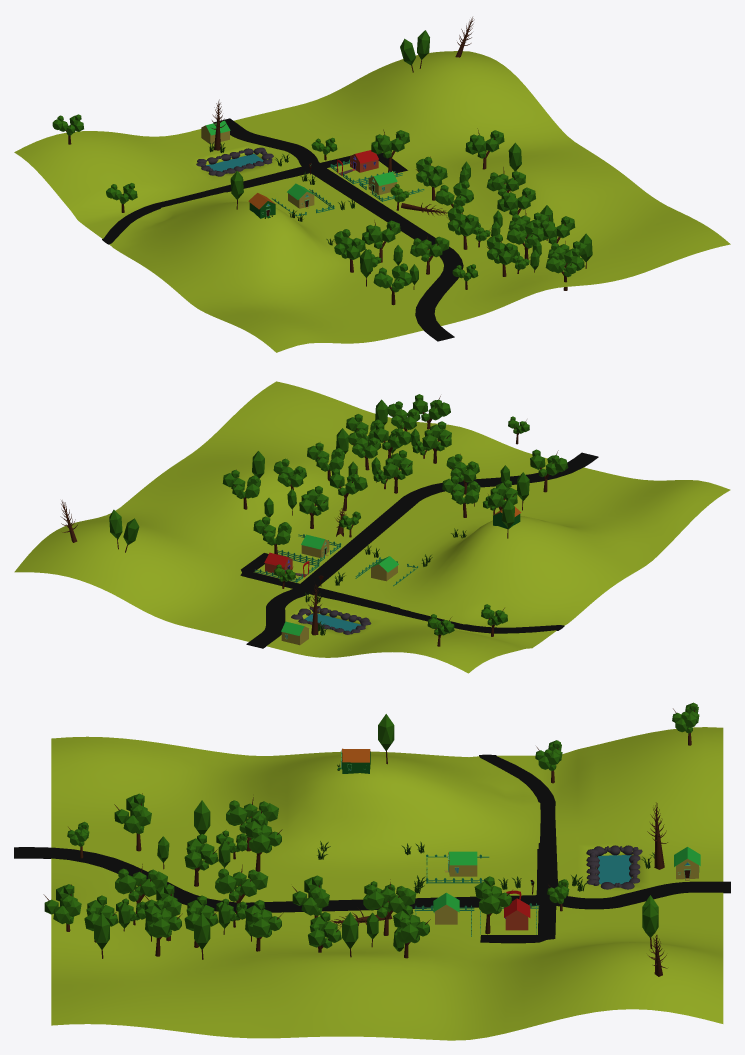
File: Cotoon land.FBX
3 renders of one model, top to bottom at view 1: azimuth 30°, elevation 25°; view 2: azimuth 150°, elevation 25°; view 3: azimuth 270°, elevation 25°, orthographic. The views are drawn at different scales.
Visible parts, largest first — view 1: Landscape_Plane_Landscape, Road_Cube_001_Road, Rock_Cube_006_Rock, Tree_Leaf_018_Icosphere_029_Leaf, Tree_Leaf_008_Icosphere_013_Leaf, Tree_Leaf_021_Icosphere_034_Leaf, Tree_Leaf_011_Icosphere_018_Leaf, Tree_Leaf_012_Icosphere_019_Leaf, Tree_Leaf_022_Icosphere_035_Leaf, Tree_Leaf_007_Icosphere_012_Leaf, Tree_Leaf_Icosphere_Leaf, Tree_Leaf_024_Icosphere_039_Leaf (+6 smaller); view 2: Landscape_Plane_Landscape, Road_Cube_001_Road, Rock_Cube_006_Rock, Tree_Leaf_004_Icosphere_007_Leaf, Tree_Leaf_Icosphere_Leaf, Tree_Leaf_024_Icosphere_039_Leaf, Tree_Leaf_014_Icosphere_023_Leaf, Tree_Leaf_008_Icosphere_013_Leaf, Tree_Leaf_021_Icosphere_034_Leaf, Tree_Leaf_017_Icosphere_028_Leaf, Tree_Leaf_022_Icosphere_035_Leaf, Tree_Leaf_012_Icosphere_019_Leaf (+7 smaller); view 3: Landscape_Plane_Landscape, Road_Cube_001_Road, Rock_Cube_006_Rock, Tree_Leaf_012_Icosphere_019_Leaf, Tree_Leaf_022_Icosphere_035_Leaf, Tree_Leaf_017_Icosphere_028_Leaf, Tree_Leaf_007_Icosphere_012_Leaf, Tree_Leaf_018_Icosphere_029_Leaf, Tree_Leaf_021_Icosphere_034_Leaf, Tree_Leaf_008_Icosphere_013_Leaf, Tree_Leaf_004_Icosphere_007_Leaf, Tree_Leaf_Icosphere_Leaf (+12 smaller).
Boxes of the visible parts, x1,y1,x2,y2 form: Landscape_Plane_Landscape: [14, 51, 730, 352]; Road_Cube_001_Road: [102, 118, 463, 341]; Rock_Cube_006_Rock: [196, 147, 273, 176]; Tree_Leaf_018_Icosphere_029_Leaf: [545, 248, 584, 276]; Tree_Leaf_008_Icosphere_013_Leaf: [373, 263, 412, 292]; Tree_Leaf_021_Icosphere_034_Leaf: [435, 180, 473, 207]; Tree_Leaf_011_Icosphere_018_Leaf: [506, 219, 544, 248]; Tree_Leaf_012_Icosphere_019_Leaf: [447, 205, 479, 236]; Tree_Leaf_022_Icosphere_035_Leaf: [416, 156, 447, 187]; Tree_Leaf_007_Icosphere_012_Leaf: [334, 229, 365, 259]; Tree_Leaf_Icosphere_Leaf: [371, 130, 409, 158]; Tree_Leaf_024_Icosphere_039_Leaf: [465, 130, 504, 158]; Landscape_Plane_Landscape: [14, 381, 730, 673]; Road_Cube_001_Road: [240, 452, 598, 648]; Rock_Cube_006_Rock: [291, 606, 371, 634]; Tree_Leaf_004_Icosphere_007_Leaf: [442, 475, 480, 504]; Tree_Leaf_Icosphere_Leaf: [253, 516, 291, 545]; Tree_Leaf_024_Icosphere_039_Leaf: [222, 470, 260, 498]; Tree_Leaf_014_Icosphere_023_Leaf: [307, 442, 344, 471]; Tree_Leaf_008_Icosphere_013_Leaf: [530, 449, 568, 476]; Tree_Leaf_021_Icosphere_034_Leaf: [329, 468, 367, 495]; Tree_Leaf_017_Icosphere_028_Leaf: [422, 421, 451, 451]; Tree_Leaf_022_Icosphere_035_Leaf: [299, 486, 328, 515]; Tree_Leaf_012_Icosphere_019_Leaf: [383, 450, 412, 479]; Landscape_Plane_Landscape: [51, 727, 723, 1040]; Road_Cube_001_Road: [14, 754, 730, 943]; Rock_Cube_006_Rock: [586, 845, 642, 889]; Tree_Leaf_012_Icosphere_019_Leaf: [215, 868, 268, 901]; Tree_Leaf_022_Icosphere_035_Leaf: [363, 885, 416, 918]; Tree_Leaf_017_Icosphere_028_Leaf: [115, 868, 167, 901]; Tree_Leaf_007_Icosphere_012_Leaf: [226, 800, 278, 833]; Tree_Leaf_018_Icosphere_029_Leaf: [44, 884, 81, 924]; Tree_Leaf_021_Icosphere_034_Leaf: [292, 875, 329, 915]; Tree_Leaf_008_Icosphere_013_Leaf: [114, 793, 151, 834]; Tree_Leaf_004_Icosphere_007_Leaf: [245, 815, 281, 853]; Tree_Leaf_Icosphere_Leaf: [474, 876, 511, 914].
Bounding box in the file's own units: 70.18 × 12.52 × 74.69.
